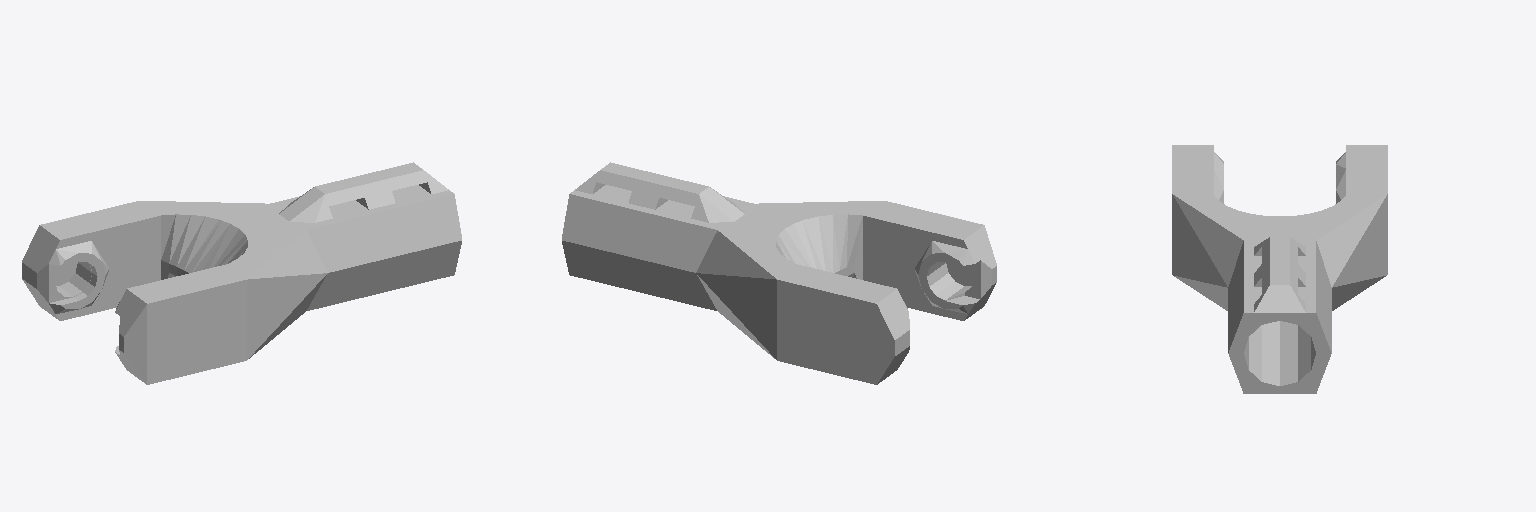
File: Universal Joint Arm End.obj
The picture shows the model from 3 angles: view 1: azimuth 30°, elevation 25°; view 2: azimuth 150°, elevation 25°; view 3: azimuth 270°, elevation 25°; orthographic projection.
Parts seen in each view (by area): view 1: Mesh1 Model; view 2: Mesh1 Model; view 3: Mesh1 Model.
Boxes of the visible parts, box(x1,y1,x2,y2) form: Mesh1 Model: box(22, 162, 461, 384); Mesh1 Model: box(562, 162, 996, 384); Mesh1 Model: box(1172, 145, 1387, 393).
Bounding box in the file's own units: 40.25 × 10.66 × 20.8.